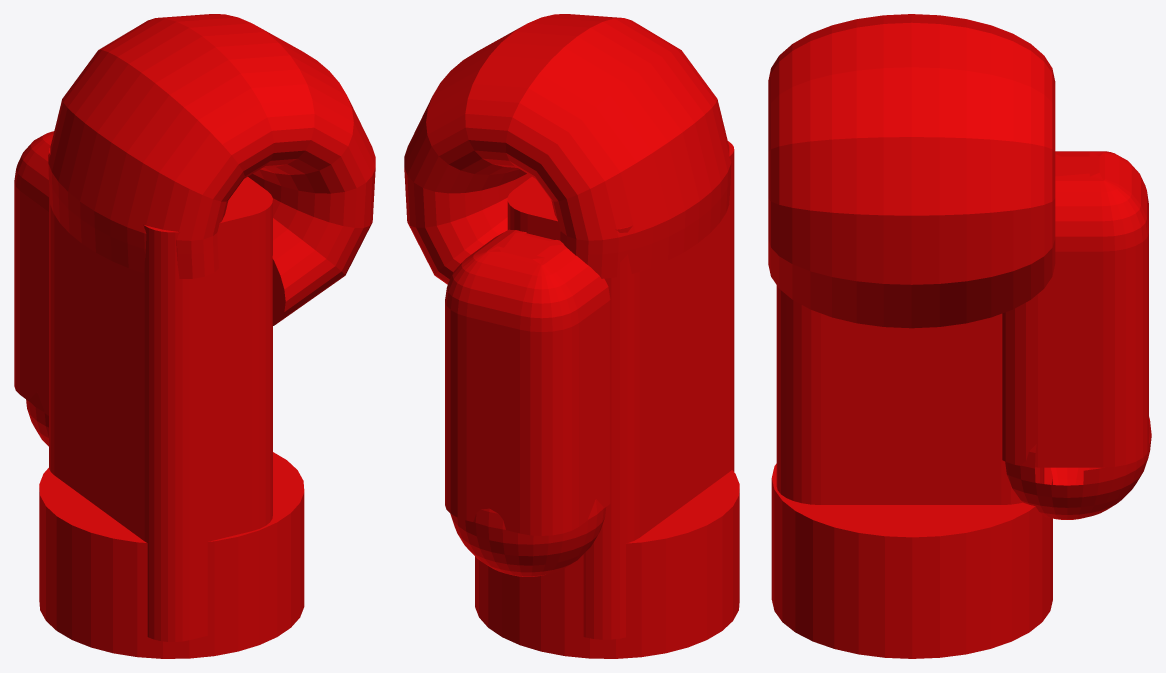
The model's file is boxingglub2.fbx.
The picture shows the model from 3 angles, left to right: view 1: azimuth 30°, elevation 25°; view 2: azimuth 150°, elevation 25°; view 3: azimuth 270°, elevation 25°; orthographic projection. The views are drawn at different scales.
Parts seen in each view (by area): view 1: Cylinder.004; view 2: Cylinder.004; view 3: Cylinder.004.
Part boxes in pixels (x1,y1,x2,y2): Cylinder.004: [14, 14, 375, 658]; Cylinder.004: [404, 14, 739, 658]; Cylinder.004: [768, 14, 1151, 658].
Bounding box in the file's own units: 562 × 1048 × 615.
